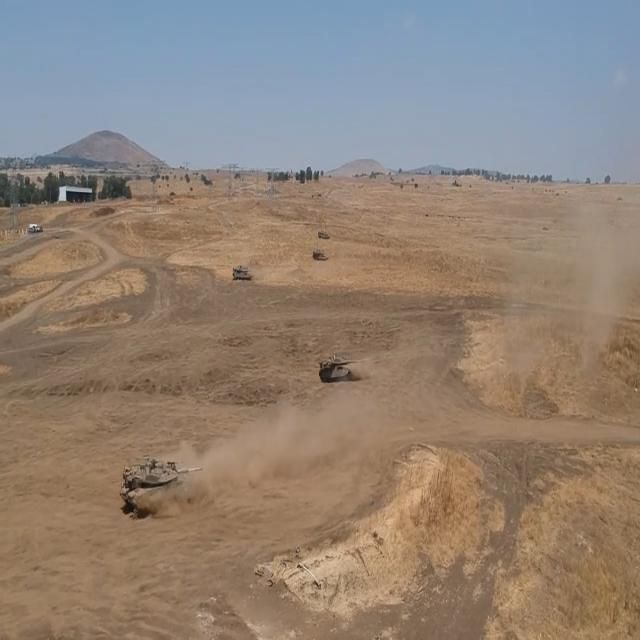tank: (116, 449, 219, 528), (316, 340, 363, 390), (226, 258, 262, 287), (312, 244, 328, 269), (316, 228, 330, 242)
